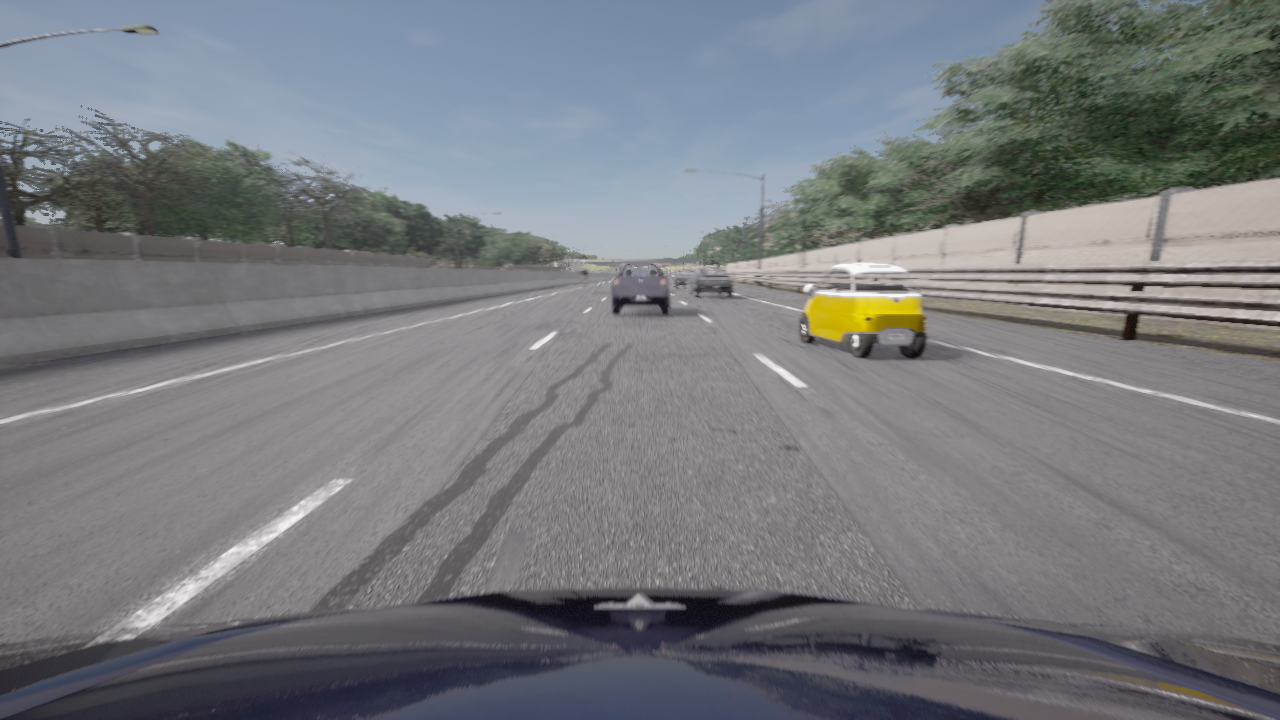cyclist: (0, 588, 1279, 719), (800, 263, 926, 358), (612, 263, 669, 314), (687, 267, 732, 297), (672, 270, 694, 288), (582, 280, 587, 292)
